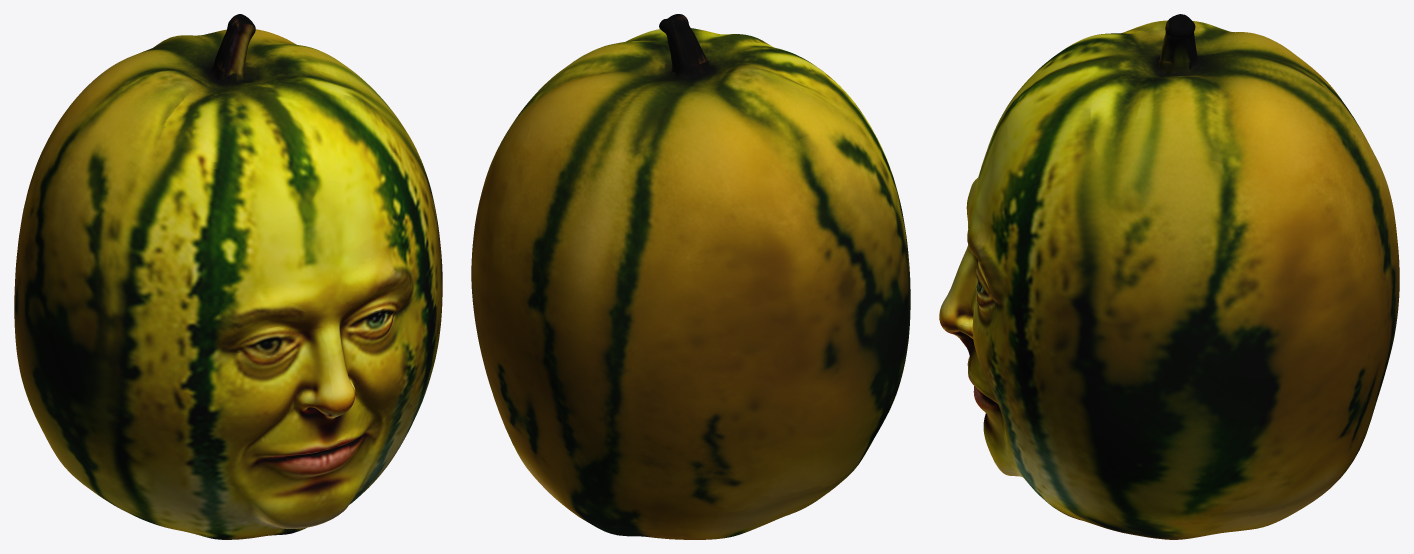
The picture shows the model from 3 angles, left to right: view 1: azimuth 30°, elevation 25°; view 2: azimuth 150°, elevation 25°; view 3: azimuth 270°, elevation 25°; orthographic projection. The views are drawn at different scales.
Visible parts, largest first — view 1: tmp3qir3aj2.ply; view 2: tmp3qir3aj2.ply; view 3: tmp3qir3aj2.ply.
Boxes of the visible parts, x1=… form: tmp3qir3aj2.ply: x1=14, y1=14, x2=442, y2=539; tmp3qir3aj2.ply: x1=471, y1=14, x2=910, y2=539; tmp3qir3aj2.ply: x1=939, y1=14, x2=1399, y2=539.
Size of the model in its own units: 1.64 by 1.99 by 1.69.
Materials: 1 (1 with a texture image).
